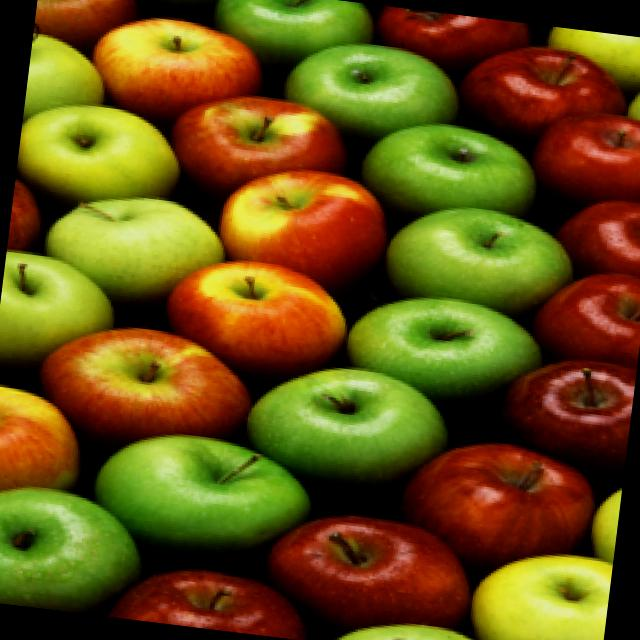Fresh_Apple: (34, 286, 272, 490), (80, 2, 374, 136), (211, 143, 401, 294), (360, 276, 552, 412)
